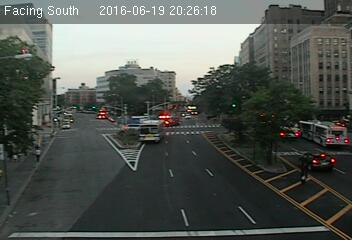neg: (227, 96, 240, 114), (186, 102, 197, 117), (76, 76, 86, 90), (127, 52, 135, 63)
pos: (30, 146, 44, 164)
